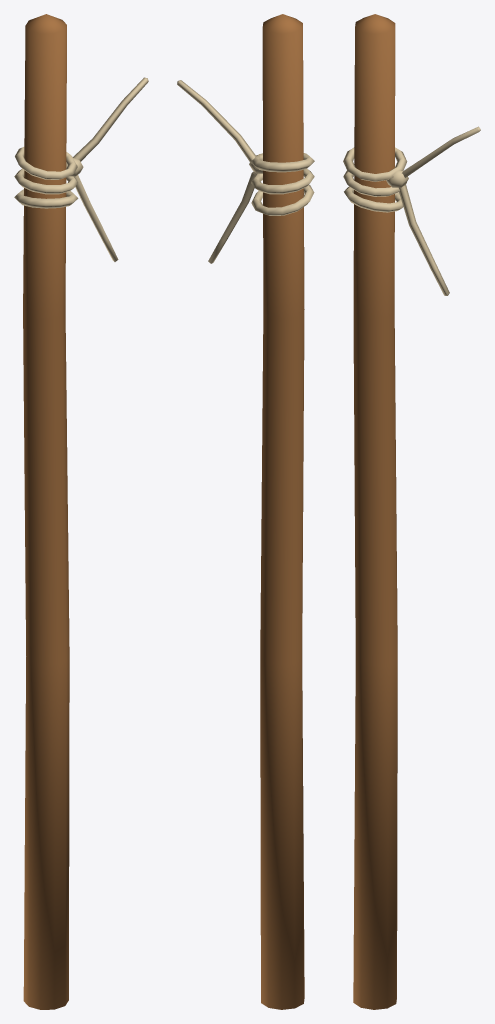
The model's file is stake.glb.
3 renders of one model, left to right at view 1: azimuth 30°, elevation 25°; view 2: azimuth 150°, elevation 25°; view 3: azimuth 330°, elevation 25°, orthographic.
Visible parts, largest first — view 1: stake, twine; view 2: stake, twine; view 3: stake, twine.
Boxes of the visible parts, x1,y1,x2,y2 form: stake: (23,14,69,1009); twine: (14,77,148,261); stake: (260,14,304,1009); twine: (177,80,314,263); stake: (353,14,397,1009); twine: (343,126,480,295).
Bounding box in the file's own units: 0.167 × 1.2 × 0.071.
